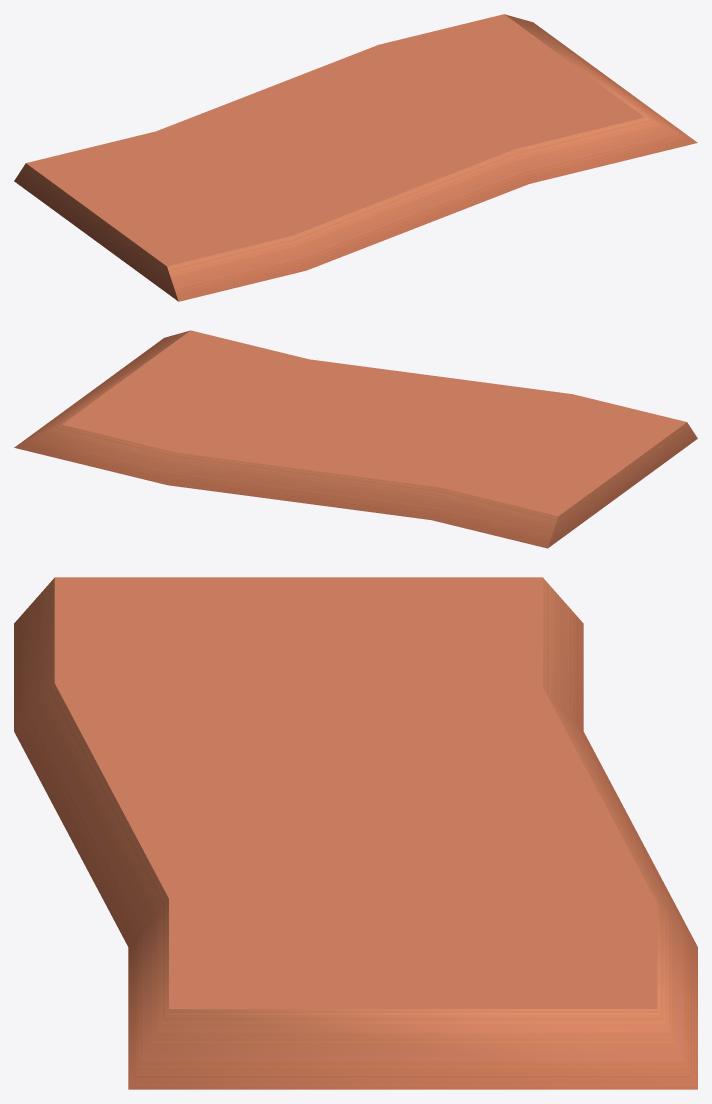
The model's file is path-end.glb.
The picture shows the model from 3 angles, top to bottom: view 1: azimuth 30°, elevation 25°; view 2: azimuth 150°, elevation 25°; view 3: azimuth 270°, elevation 25°; orthographic projection. The views are drawn at different scales.
Visible parts, largest first — view 1: path-end; view 2: path-end; view 3: path-end.
Part boxes in pixels (left/top/right/bottom): path-end: left=14, top=14, right=697, bottom=301; path-end: left=14, top=330, right=697, bottom=548; path-end: left=14, top=577, right=697, bottom=1089.
Bounding box in the file's own units: 0.54 × 0.025 × 0.335.
1 material, 1 textured.
